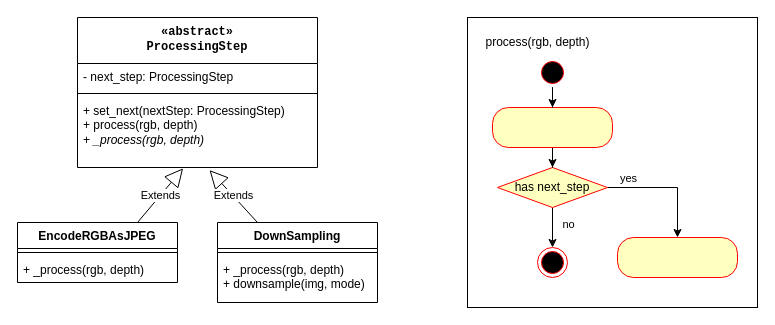
Image size: 775x325. Some labels were removed from this diagram. The shapes that lost their labels are listed below. From the top down, each one's centre as x and y in pixels, then its label:
point 552,127: _process()
point 677,257: next_step.process()
